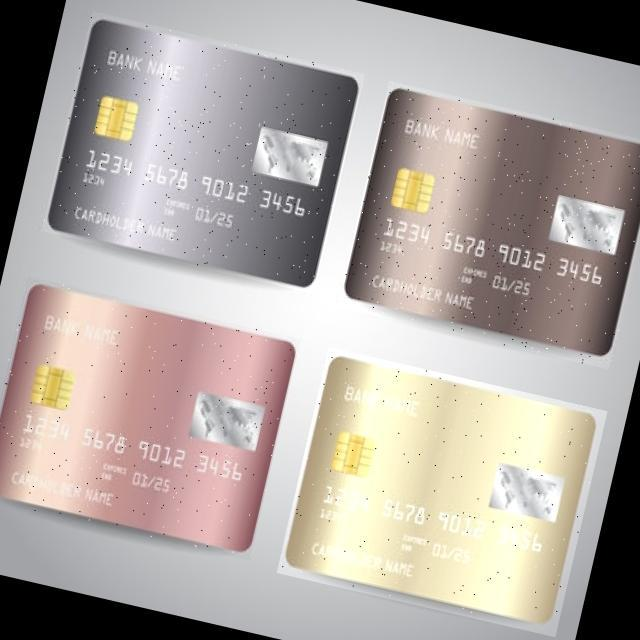payment_card: (0, 282, 296, 553)
